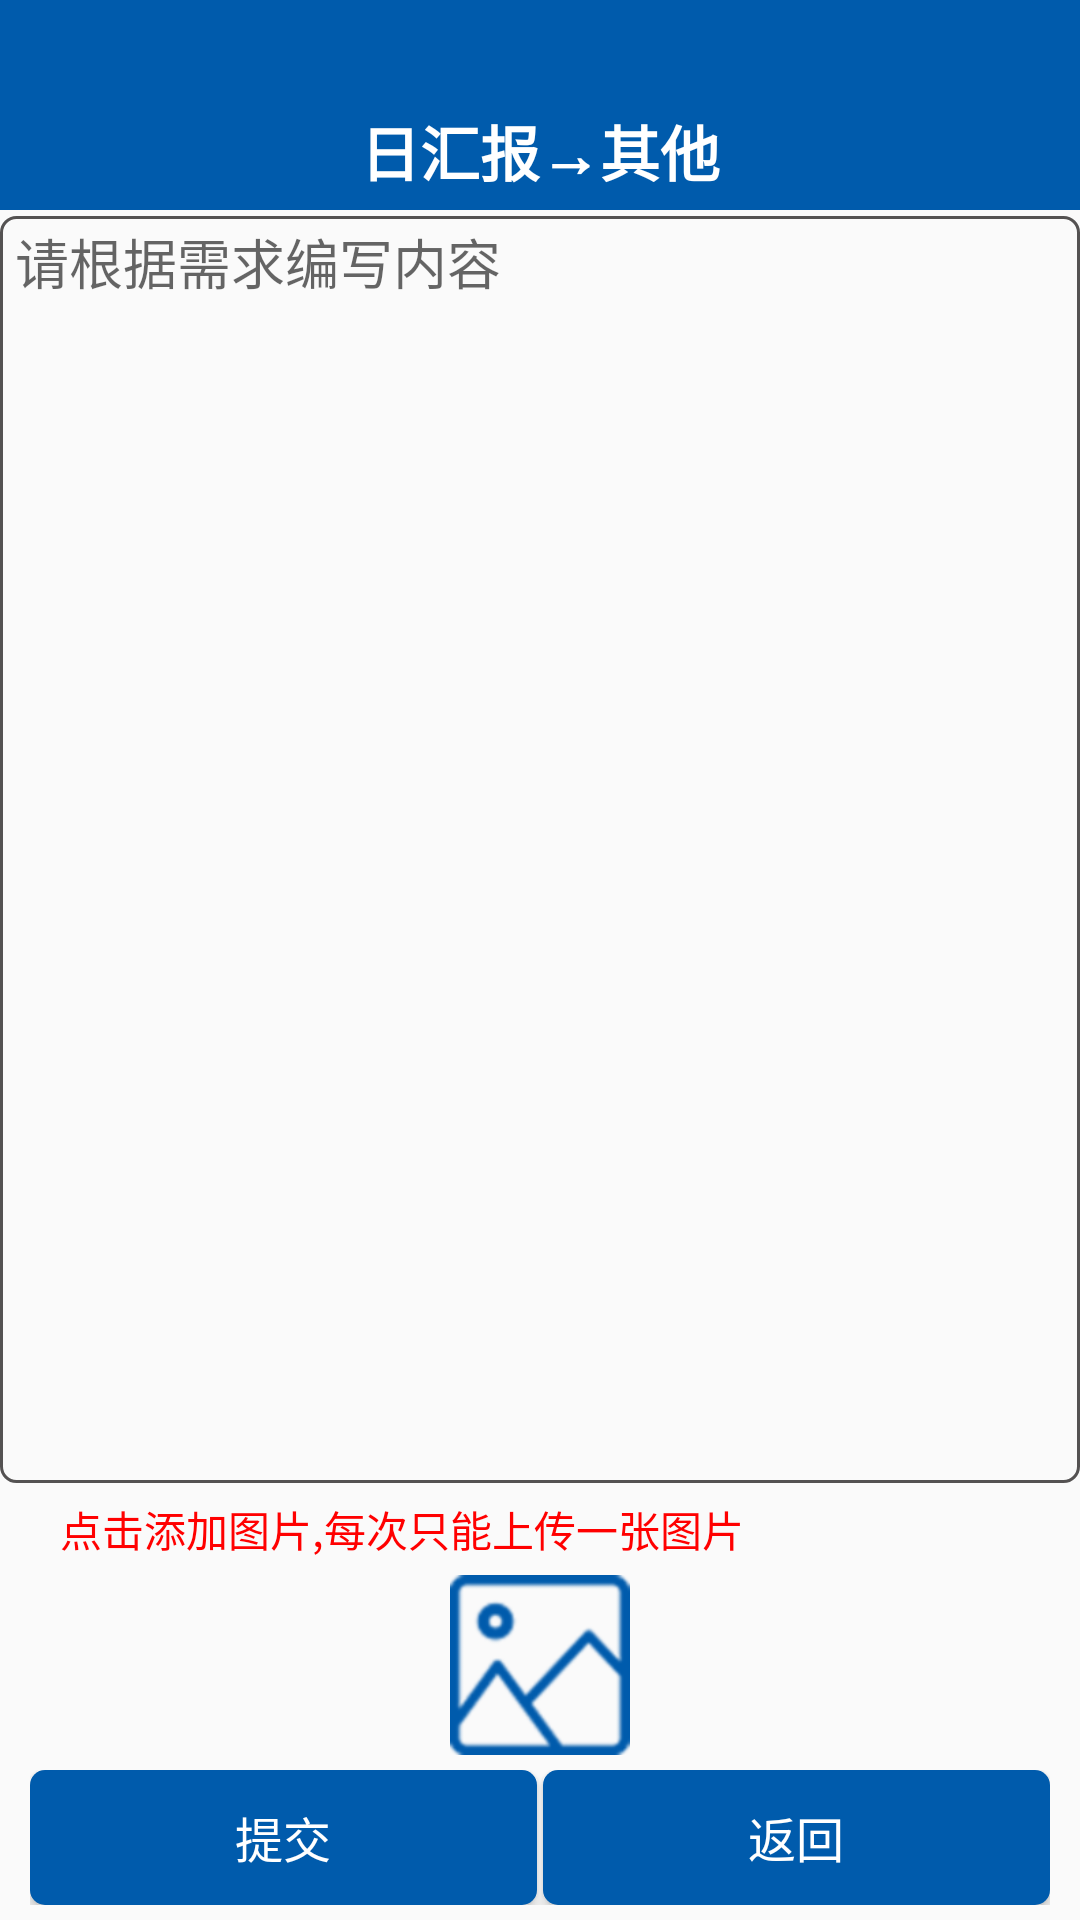

Locate icon controls on the screen. Image size 1080w x 1920h, boxes as region(x1, y1, x2, y2).
tuankaung tupian: region(450, 1575, 630, 1755)
